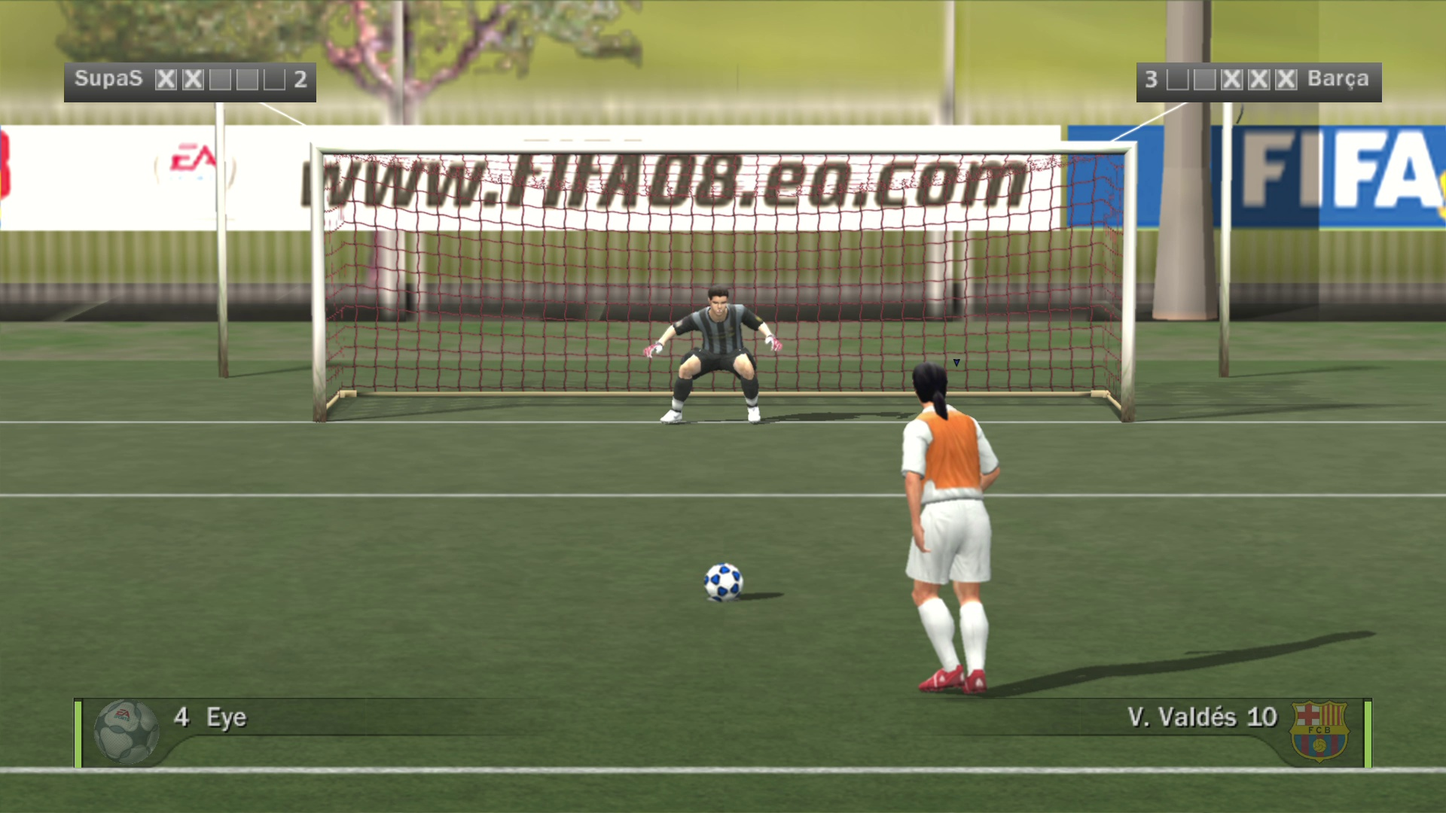ball: (680, 534, 724, 579)
goal_post: (0, 28, 720, 282)
keeper: (591, 219, 719, 351)
kicker: (855, 198, 953, 529)
